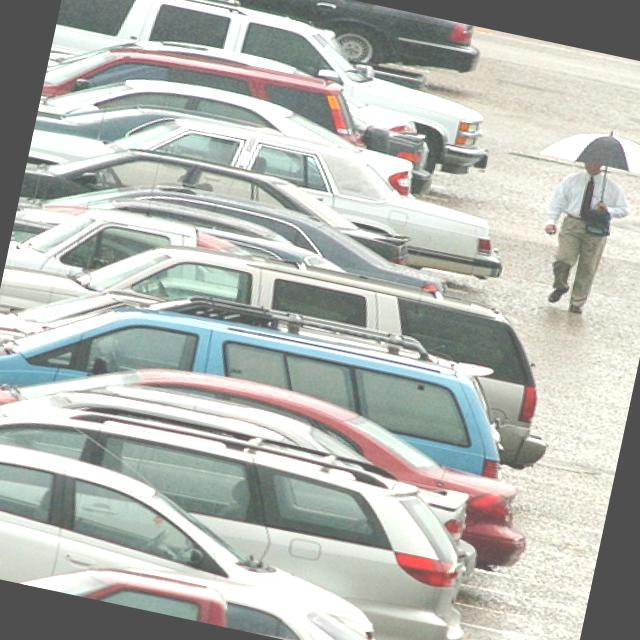Vehicle: (0, 0, 640, 640), (0, 203, 572, 473), (0, 324, 548, 577), (0, 388, 488, 640), (0, 268, 518, 492), (21, 80, 527, 290), (0, 439, 405, 640), (43, 0, 504, 176), (17, 153, 454, 301), (19, 126, 420, 281), (0, 531, 562, 640), (36, 52, 428, 195), (41, 21, 373, 163)
